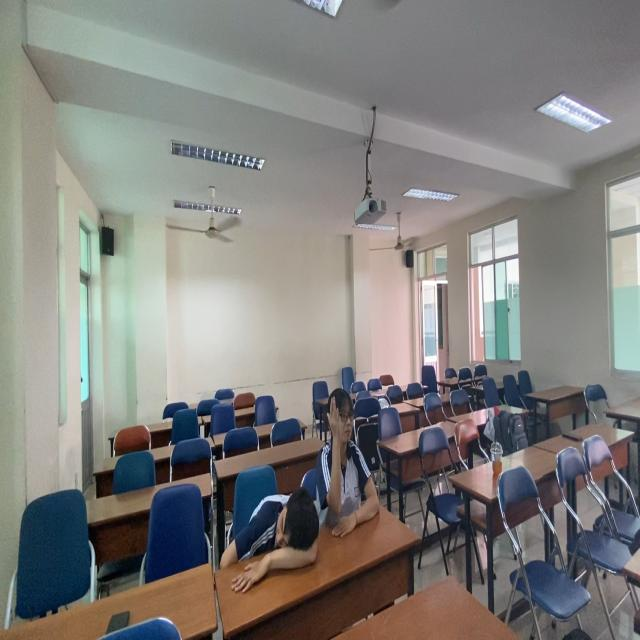raise_hand: (318, 390, 384, 536)
sleep: (219, 492, 325, 595)
